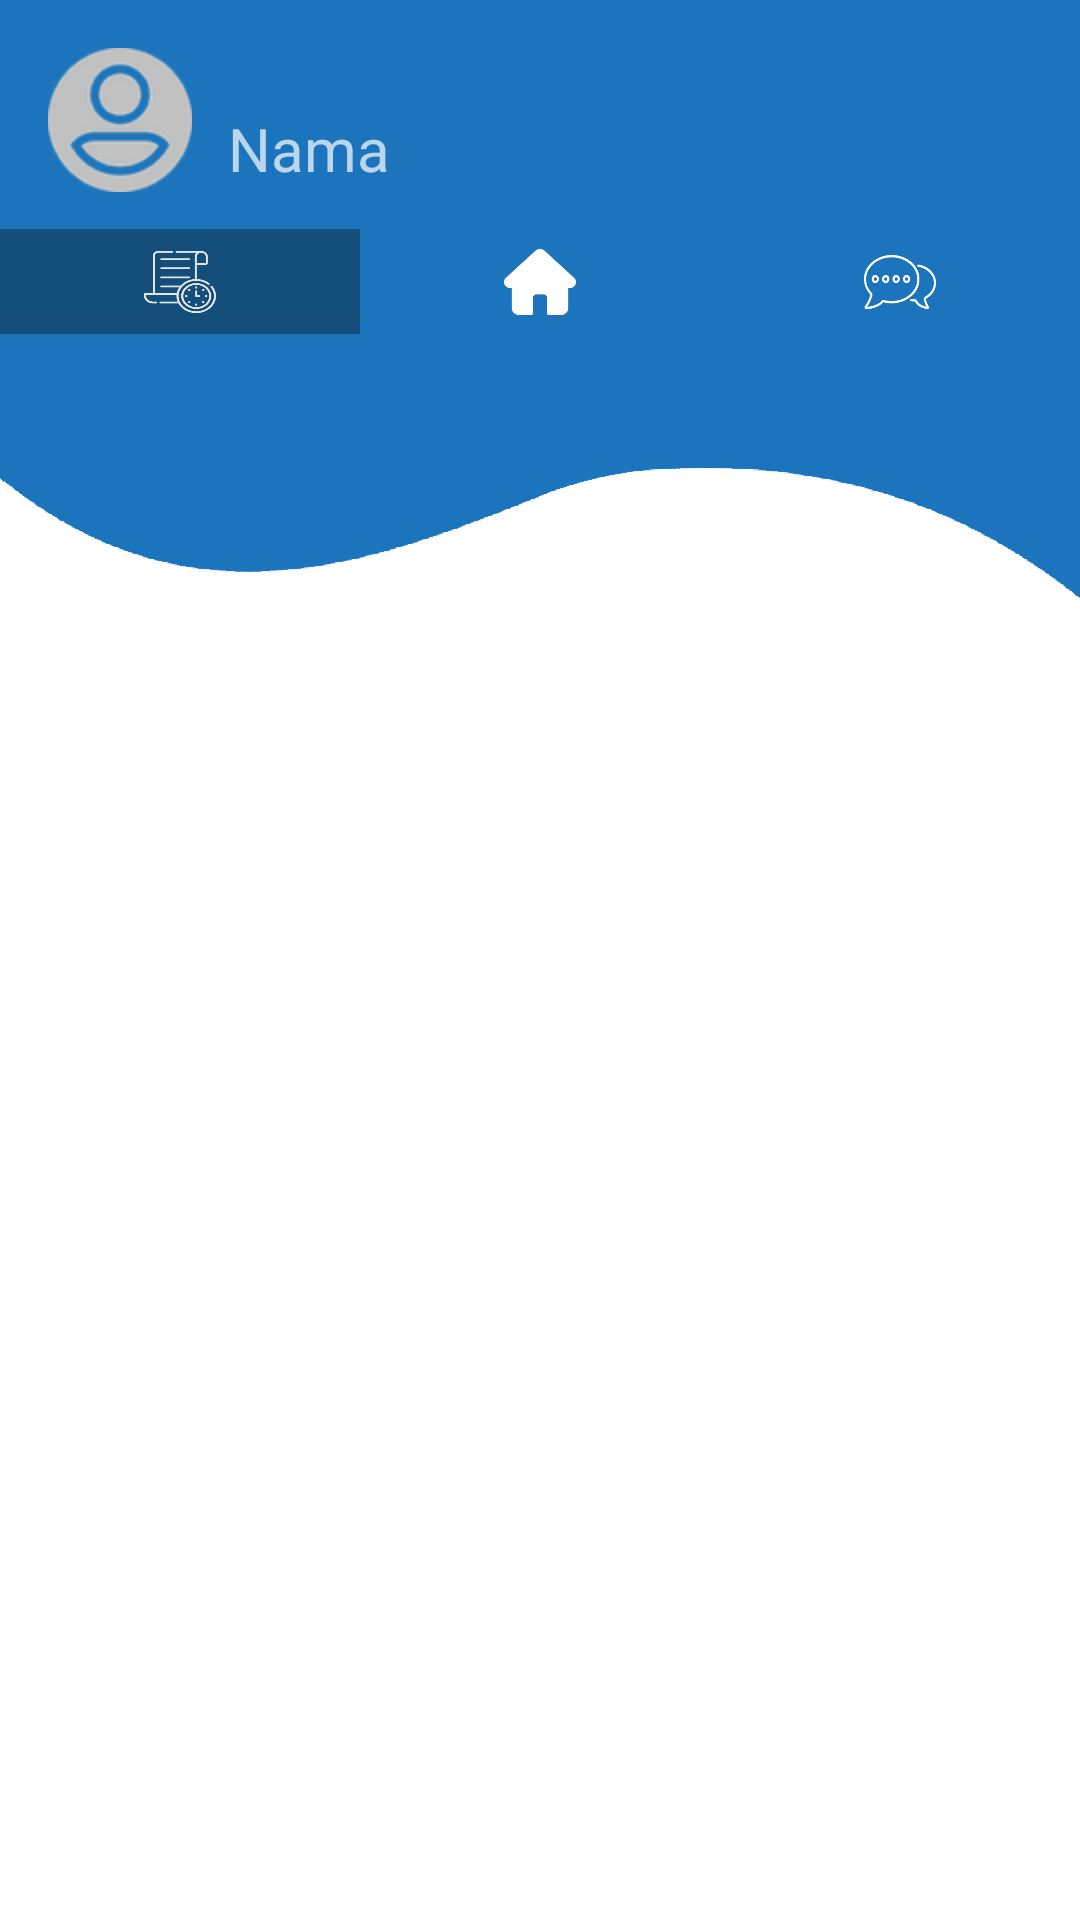

Icon bounding boxes for this 1080×1920 phone screenshot, format {"x1": x1, "y1": y1, "x2": x2, "y2": y2}:
mini photo: {"x1": 48, "y1": 48, "x2": 192, "y2": 192}
